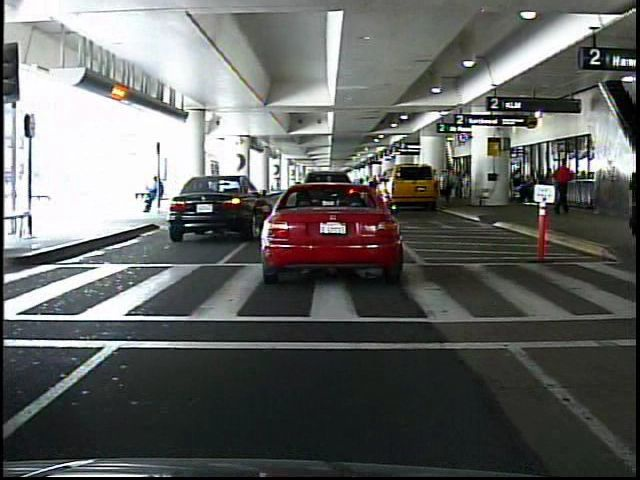person: (622, 152, 640, 270), (555, 158, 572, 216), (429, 166, 443, 203)
